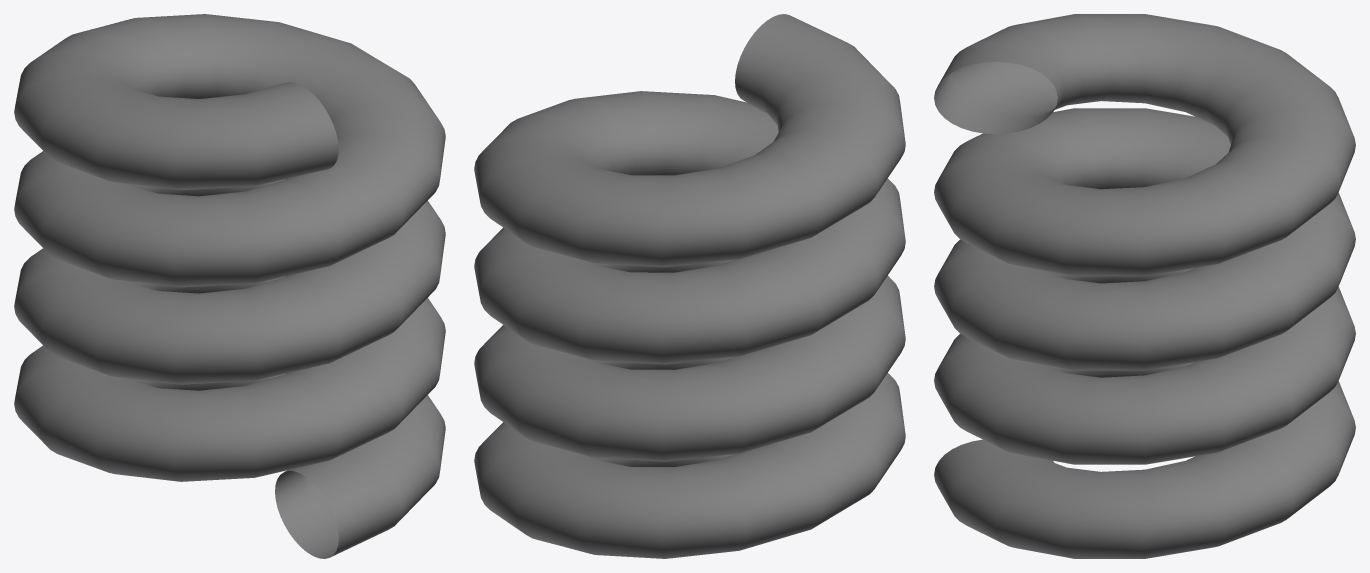
File: JumpEnemy.obj
The picture shows the model from 3 angles, left to right: view 1: azimuth 30°, elevation 25°; view 2: azimuth 150°, elevation 25°; view 3: azimuth 270°, elevation 25°; orthographic projection. The views are drawn at different scales.
Parts seen in each view (by area): view 1: 円; view 2: 円; view 3: 円.
Part boxes in pixels (bbox=[...]): 円: bbox=[14, 14, 445, 558]; 円: bbox=[474, 14, 905, 558]; 円: bbox=[934, 14, 1355, 558].
Bounding box in the file's own units: 0.7343 × 0.8628 × 0.7343.
1 material, 1 textured.
